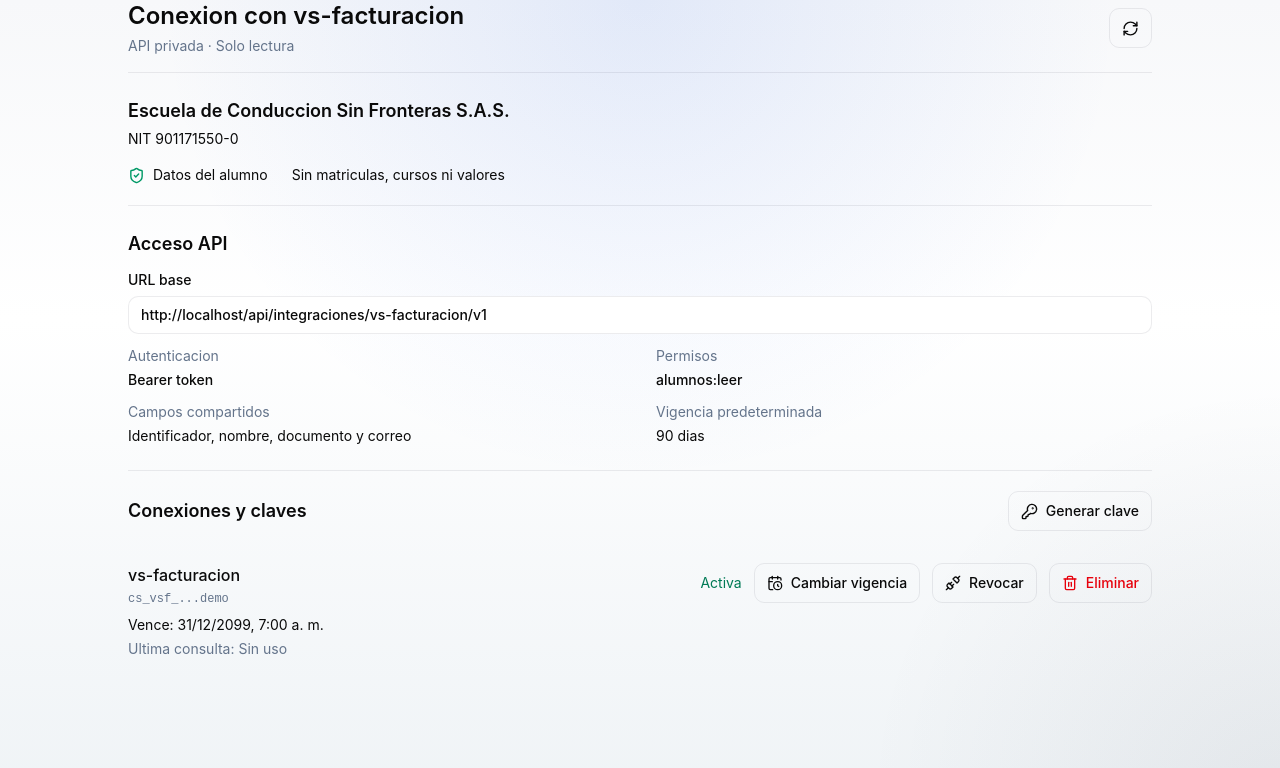
conexion de facturacion › edita a sin vencimiento sin rotar la clave
Click the button with aria-label "Cambiar vigencia de vs-facturacion" at (837, 583), box [754, 563, 920, 603]
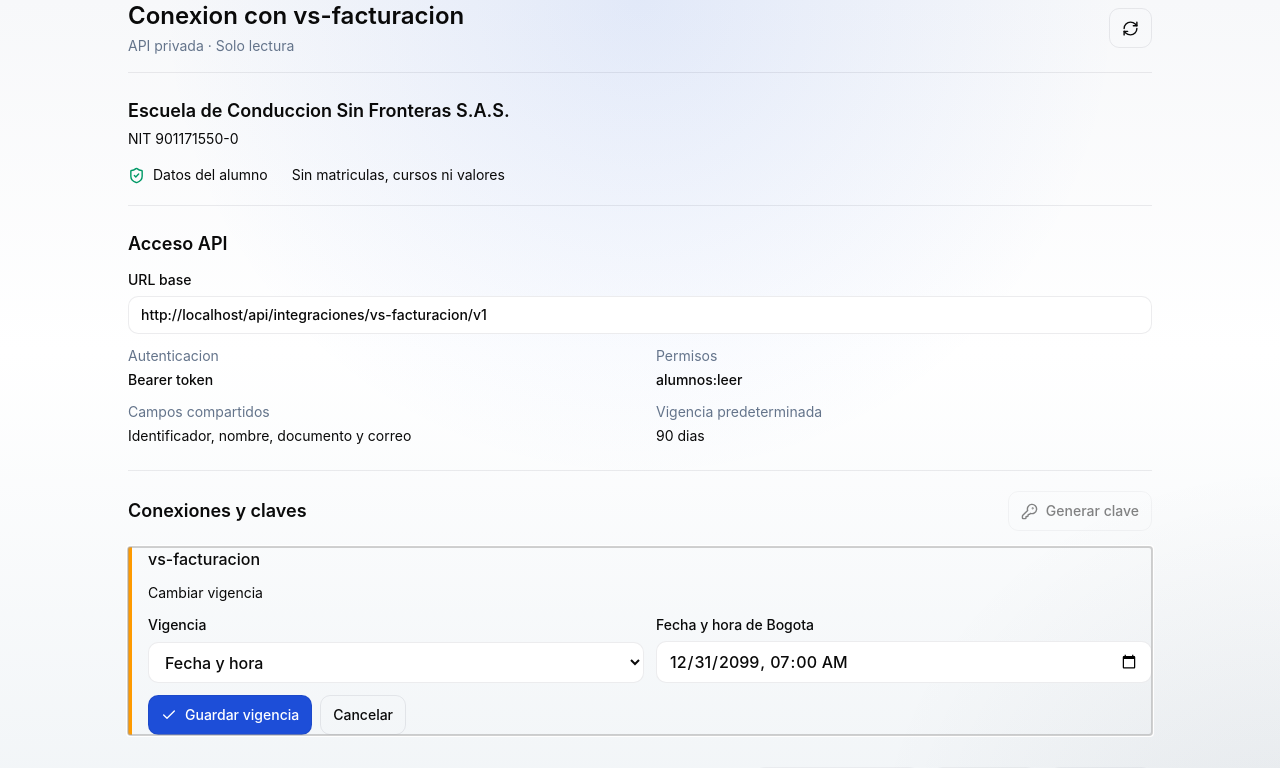
Check: the field labelled "Fecha y hora de Bogota" holds "2099-12-31T07:00", box [656, 641, 1152, 683]
Select "Sin vencimiento" in the dropdown labelled "Vigencia" at (396, 662), box [148, 642, 644, 683]
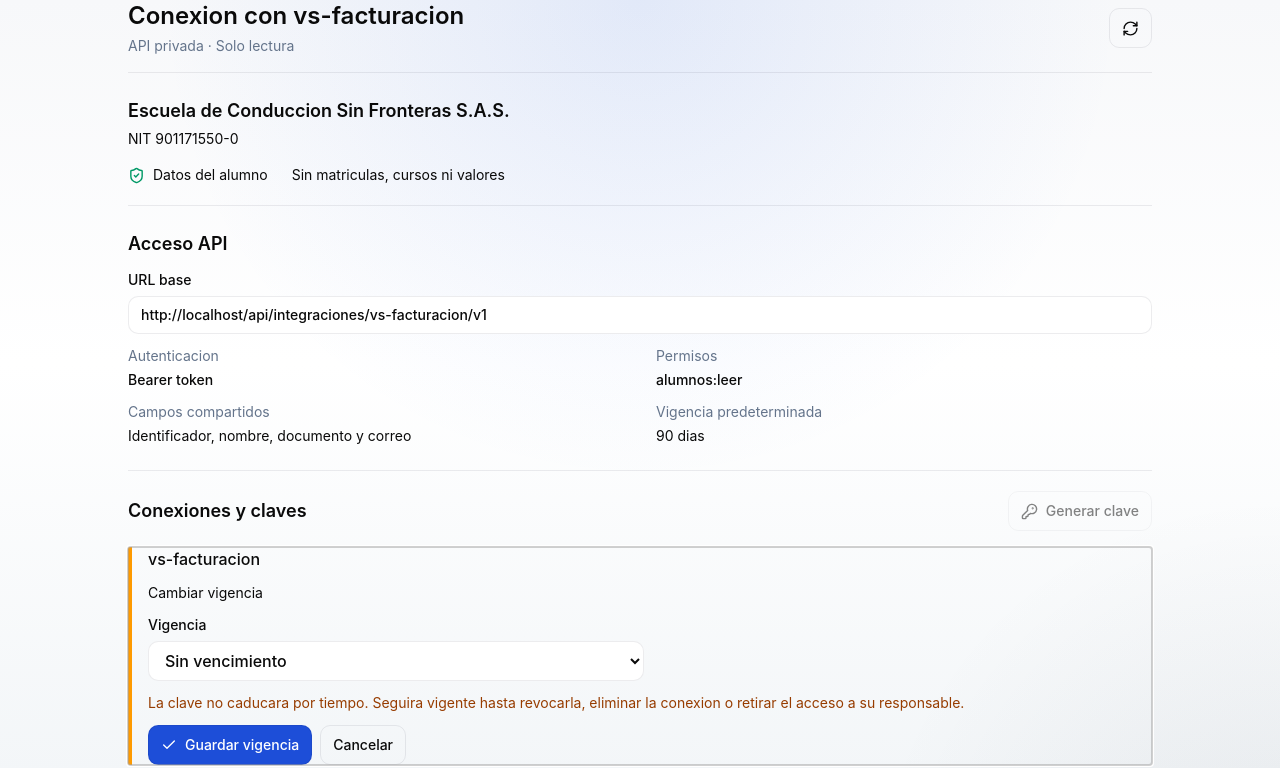
Click the button "Guardar vigencia" at (230, 745), box [148, 725, 312, 765]
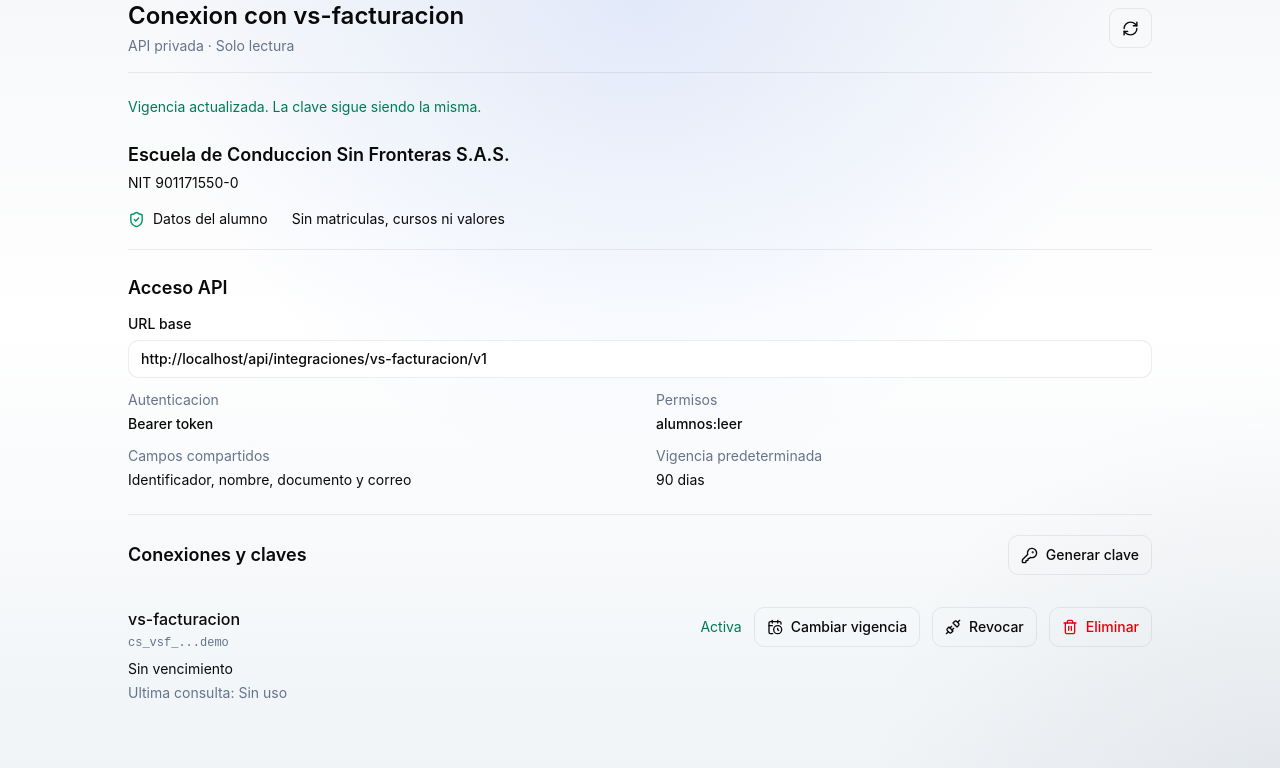
Check: the text "Vigencia actualizada. La clave sigue siendo la misma." is shown, box [128, 98, 481, 115]
